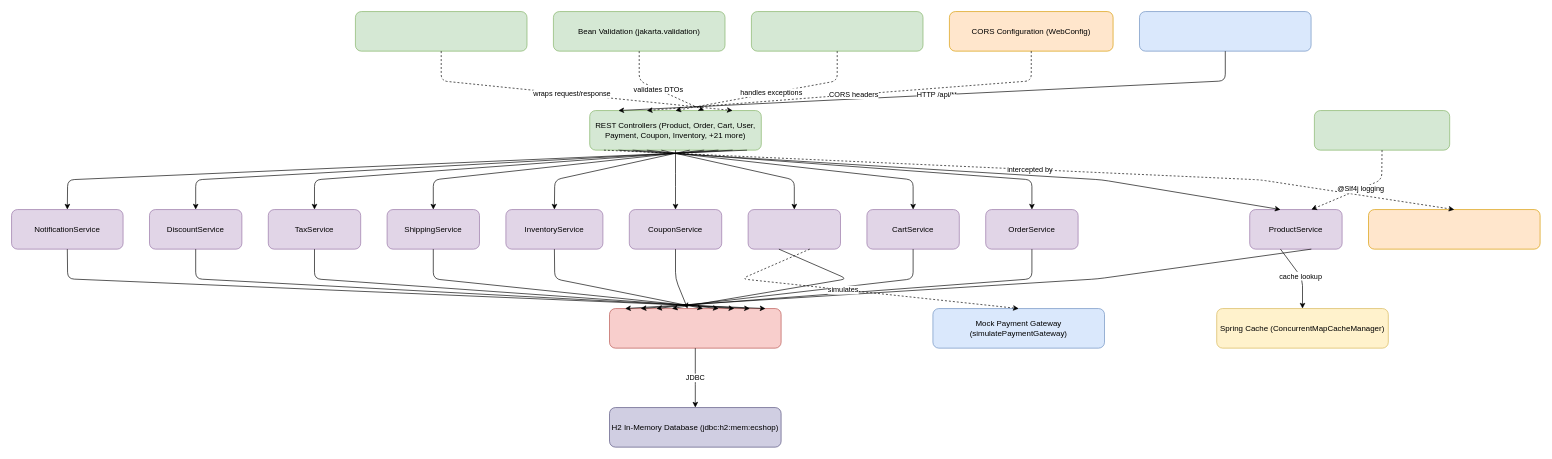
Image size: 1552x459. Some labels were removed from this diagram. The centre of each missing label's shape, as x and y in pixels:
"Browser / Mobile App / API Client" belongs at (1225,31).
"DTO / ApiResponse (43 DTOs + ApiResponse)" belongs at (441,31).
"GlobalExceptionHandler (@RestControllerAdvice)" belongs at (837,31).
"Logging (Slf4j / @Slf4j)" belongs at (1382,130).
"PaymentService" belongs at (794,229).
"Spring Data JPA Repositories (36 repositories)" belongs at (695,328).
"Spring Security Filter Chain (authN, authZ, session mgmt)" belongs at (1454,229).
